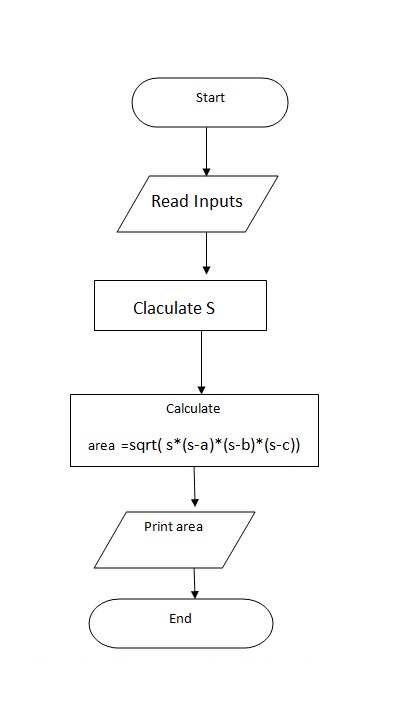arrow: (198, 120, 216, 178), (194, 330, 209, 397), (197, 229, 216, 276), (186, 463, 202, 510), (186, 568, 200, 601)
data: (89, 510, 257, 573), (112, 172, 279, 233)
process: (65, 389, 321, 468), (89, 275, 269, 333)
terminator: (85, 593, 275, 650), (127, 74, 292, 131)
text: (89, 400, 302, 454), (146, 190, 245, 211), (129, 294, 217, 317), (141, 517, 206, 533), (193, 88, 227, 107), (163, 610, 195, 626)
